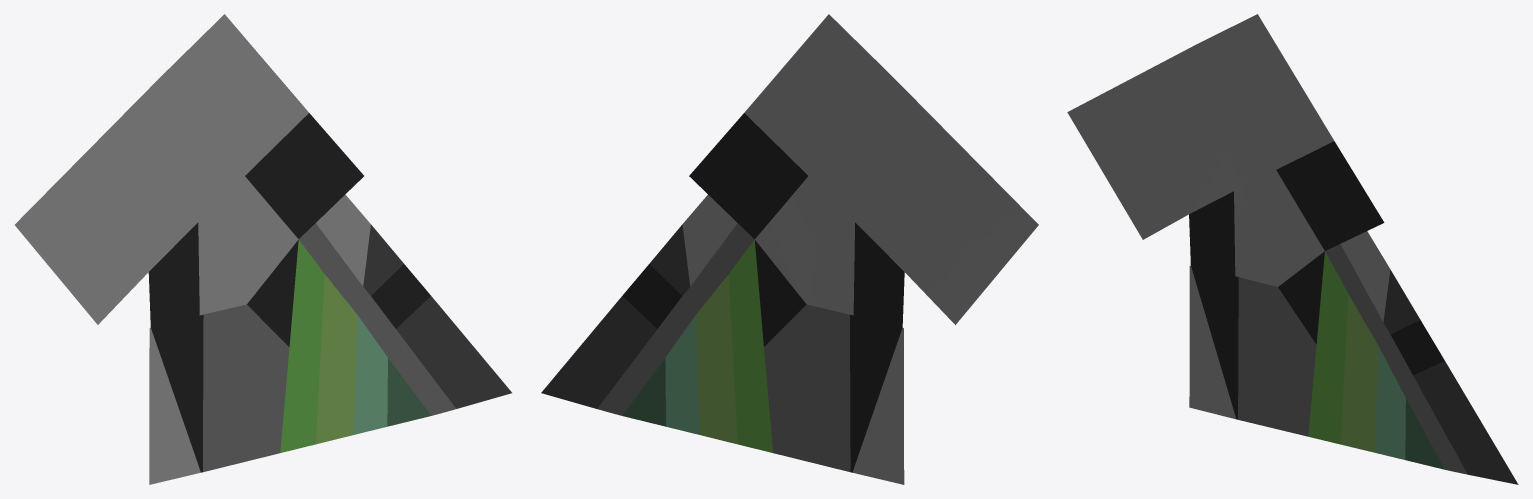
The model's file is floor_hall.obj.
The picture shows the model from 3 angles, left to right: view 1: azimuth 30°, elevation 25°; view 2: azimuth 150°, elevation 25°; view 3: azimuth 330°, elevation 25°; orthographic projection. The views are drawn at different scales.
Visible parts, largest first — view 1: Floor_h002_Plane.002; view 2: Floor_h002_Plane.002; view 3: Floor_h002_Plane.002.
Part boxes in pixels (left/top/right/bottom): Floor_h002_Plane.002: left=15, top=14, right=511, bottom=484; Floor_h002_Plane.002: left=541, top=14, right=1038, bottom=484; Floor_h002_Plane.002: left=1067, top=14, right=1518, bottom=484.
Size of the model in its own units: 21.32 by 18.53 by 0.00371.
Materials: 1 (1 with a texture image).
